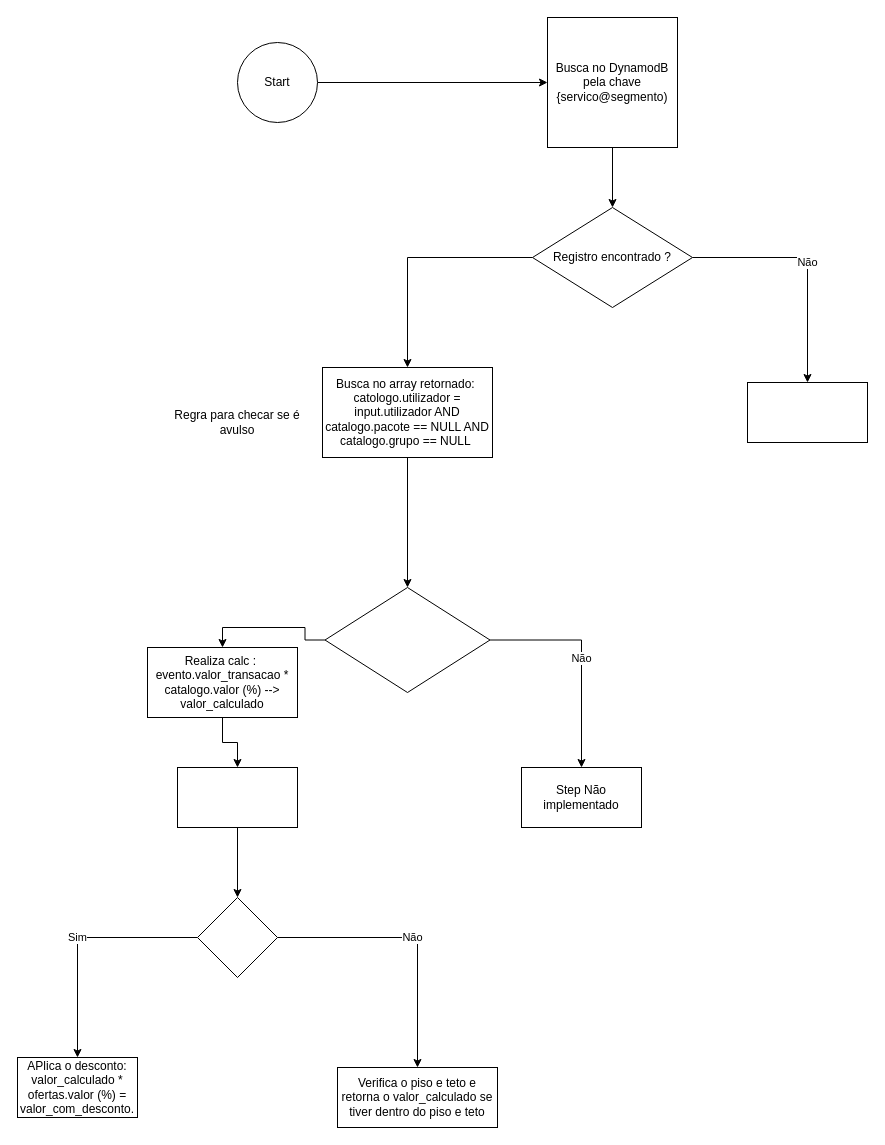
Some shapes in this 885 by 1145 pixel diagram are drawn without their labels. The box of each missing label's shape, as (x1, y1, x2, y2) in pixels:
Existe?: (196, 896, 278, 978)
Falha: (746, 382, 868, 442)
Verifica se dentro do array existe algum item em ofertas.: (176, 766, 298, 828)
É avulso ?: (324, 586, 490, 692)
